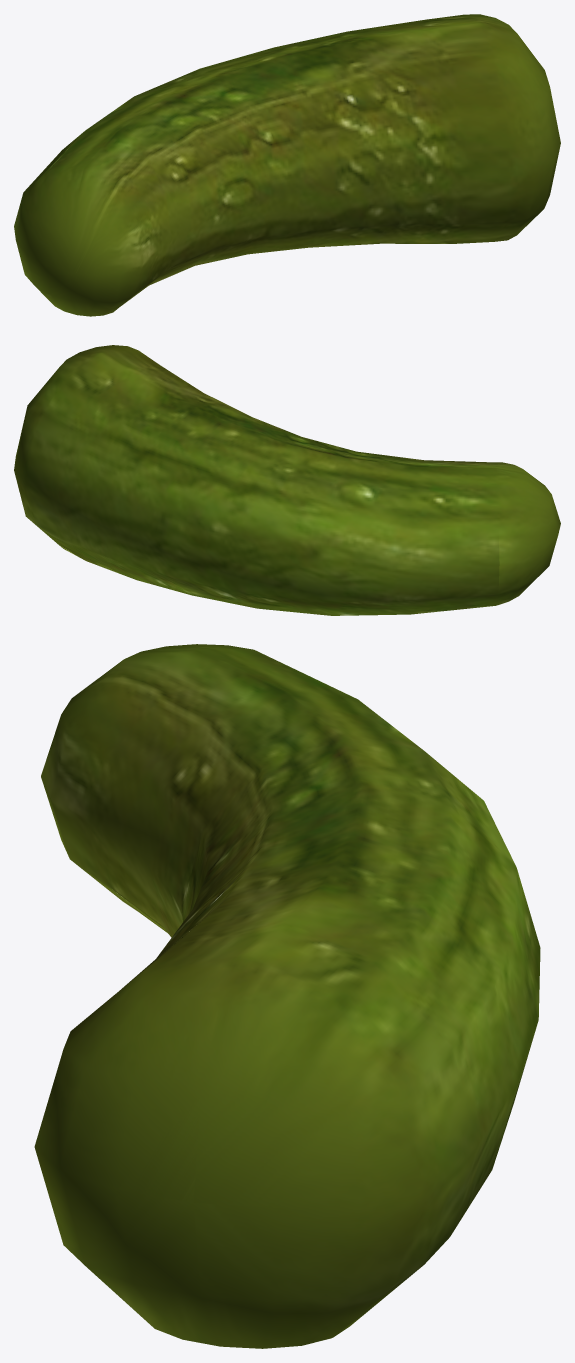
The model's file is pickle.obj.
3 renders of one model, top to bottom at view 1: azimuth 30°, elevation 25°; view 2: azimuth 150°, elevation 25°; view 3: azimuth 270°, elevation 25°, orthographic. The views are drawn at different scales.
Parts seen in each view (by area): view 1: pickle; view 2: pickle; view 3: pickle.
Part boxes in pixels (x1,y1,x2,y2): pickle: [14, 14, 560, 316]; pickle: [14, 345, 560, 615]; pickle: [34, 644, 540, 1348].
Size of the model in its own units: 25.46 by 9.52 by 11.32.
1 material, 1 textured.
